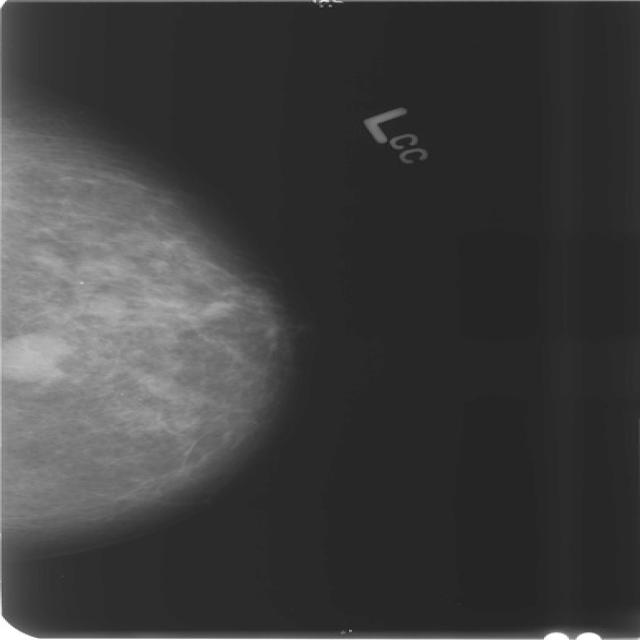tumour: (0, 332, 68, 382)
